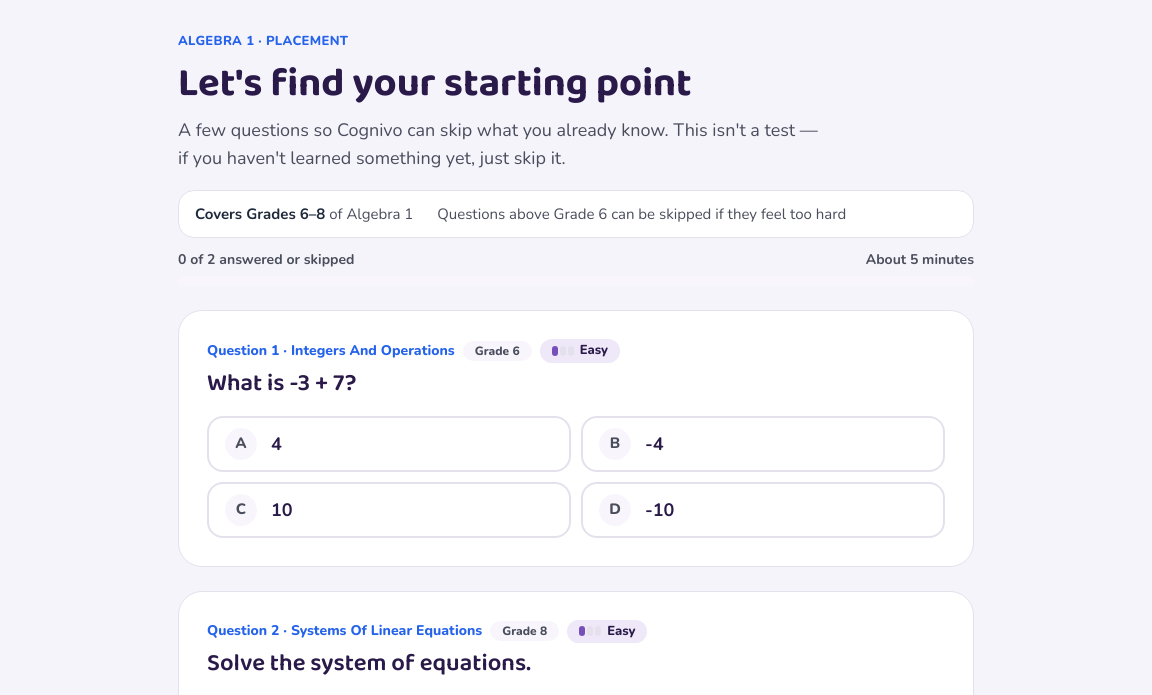
PlacementFlow results (spec 025 User Story 3/4) › renders per-question grading detail and a refreshed acknowledgment immediately in results
The image size is (1152, 695).
Check: the heading "What is -3 + 7?" is shown, box [207,364,357,402]
What coordinates should you click on to do the following:
click the radio button labelled "4"
I would click on:
 (241, 444)
Its box is [207,416,571,472].
(page scrolled)
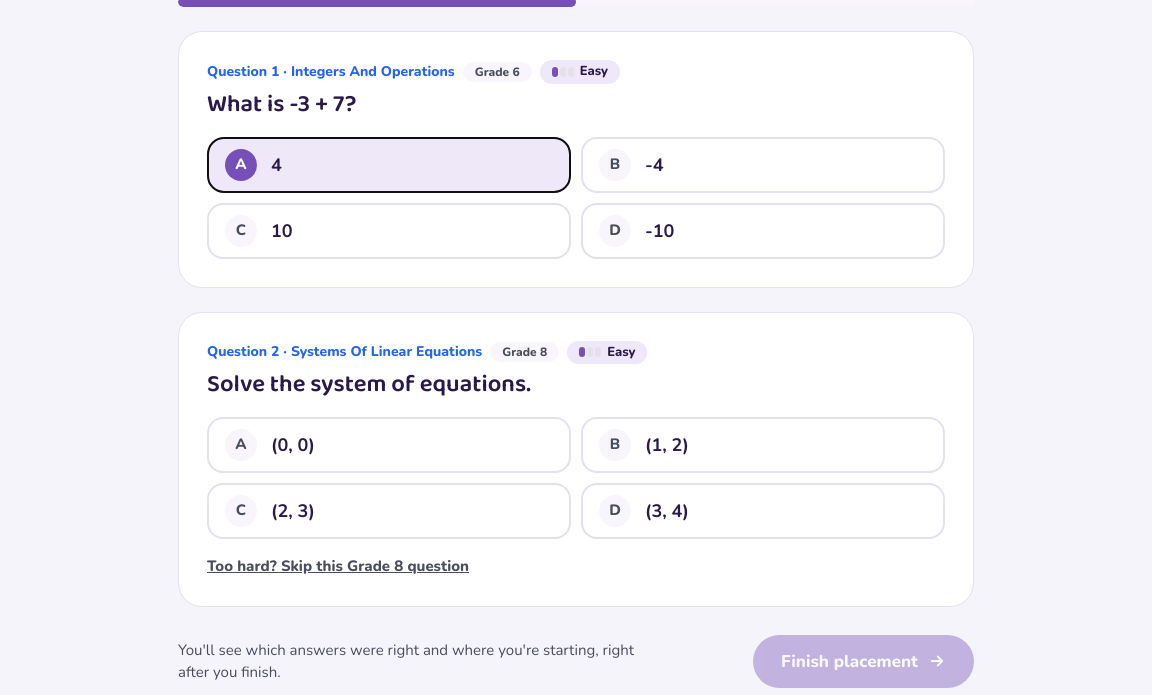
What coordinates should you click on to do the following:
click the radio button labelled "(1, 2)"
I would click on:
 (615, 445)
Its box is [581,417,945,473].
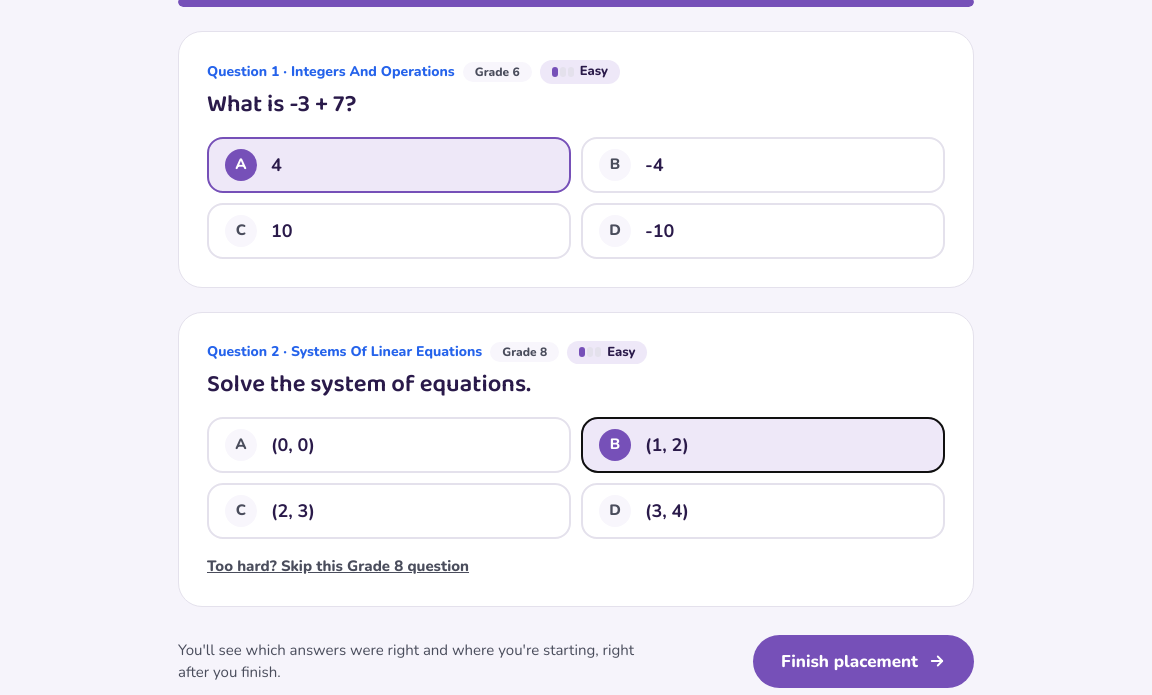
What coordinates should you click on to do the following:
click the button "Finish placement"
I would click on:
 (863, 661)
Its box is [753,634,974,688].
(page scrolled)
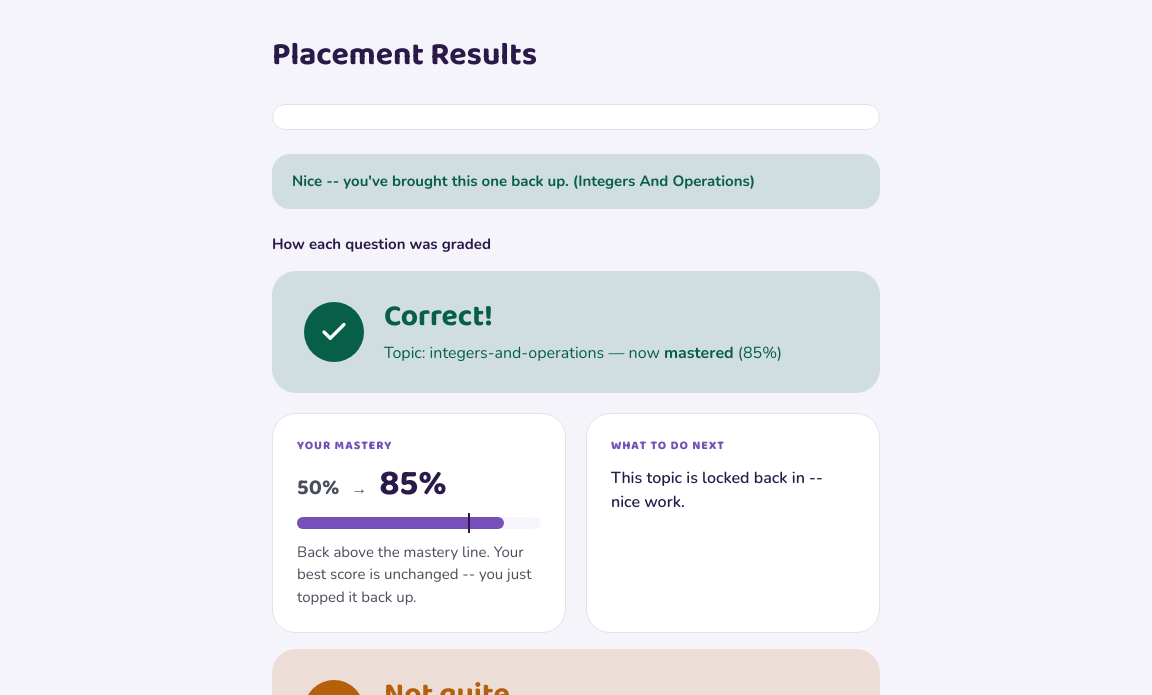
Check: the text with test id "placement-refreshed-topics" shows "Integers And Operations", box [578,171,750,191]
Check: the text with test id "placement-refreshed-topics" no longer shows "Systems Of Linear Equations"
